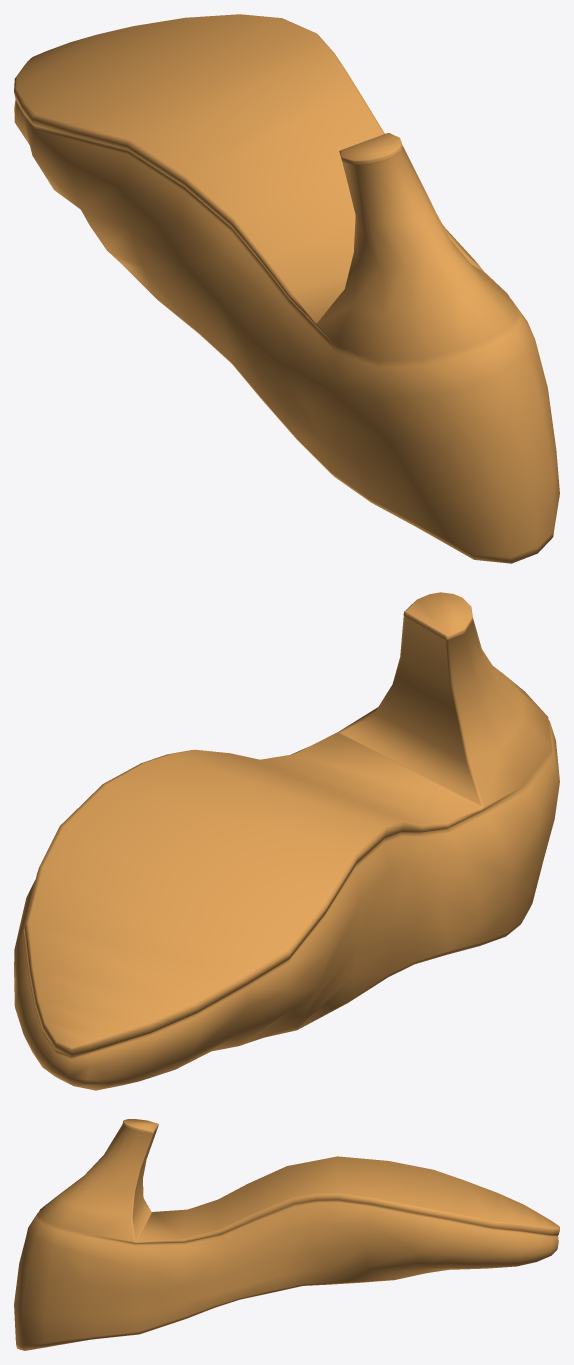
File: shoe1_6.dae
The picture shows the model from 3 angles, top to bottom: view 1: azimuth 30°, elevation 25°; view 2: azimuth 150°, elevation 25°; view 3: azimuth 270°, elevation 25°; orthographic projection. The views are drawn at different scales.
Parts seen in each view (by area): view 1: shoe1_019; view 2: shoe1_019; view 3: shoe1_019.
Boxes of the visible parts, x1,y1,x2,y2 form: shoe1_019: (14,14,559,563); shoe1_019: (14,592,559,1090); shoe1_019: (14,1119,559,1350).
Bounding box in the file's own units: 0.1138 × 0.3576 × 0.1548.
